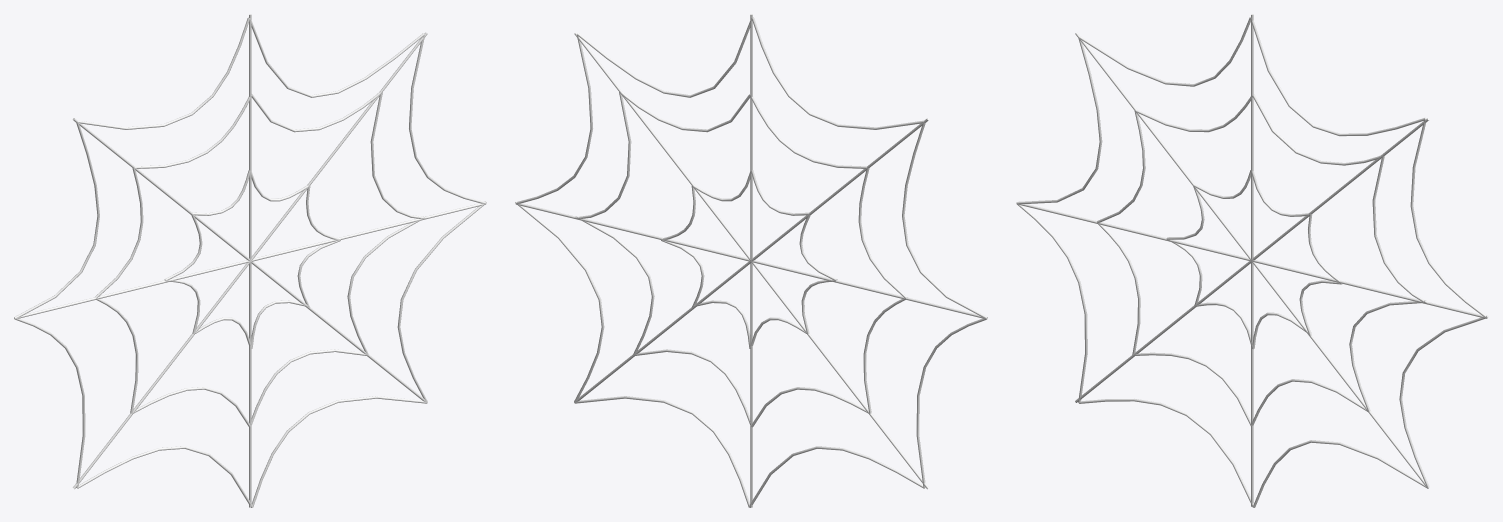
File: cobweb_1.glb
3 renders of one model, left to right at view 1: azimuth 30°, elevation 25°; view 2: azimuth 150°, elevation 25°; view 3: azimuth 330°, elevation 25°, orthographic.
Parts seen in each view (by area): view 1: Line024; view 2: Line024; view 3: Line024.
Boxes of the visible parts, left/top/right/bottom form: Line024: left=14, top=14, right=486, bottom=507; Line024: left=515, top=14, right=987, bottom=507; Line024: left=1016, top=14, right=1488, bottom=507.
Bounding box in the file's own units: 2.04 × 2.04 × 0.01.
Materials: 1 (1 with a texture image).
